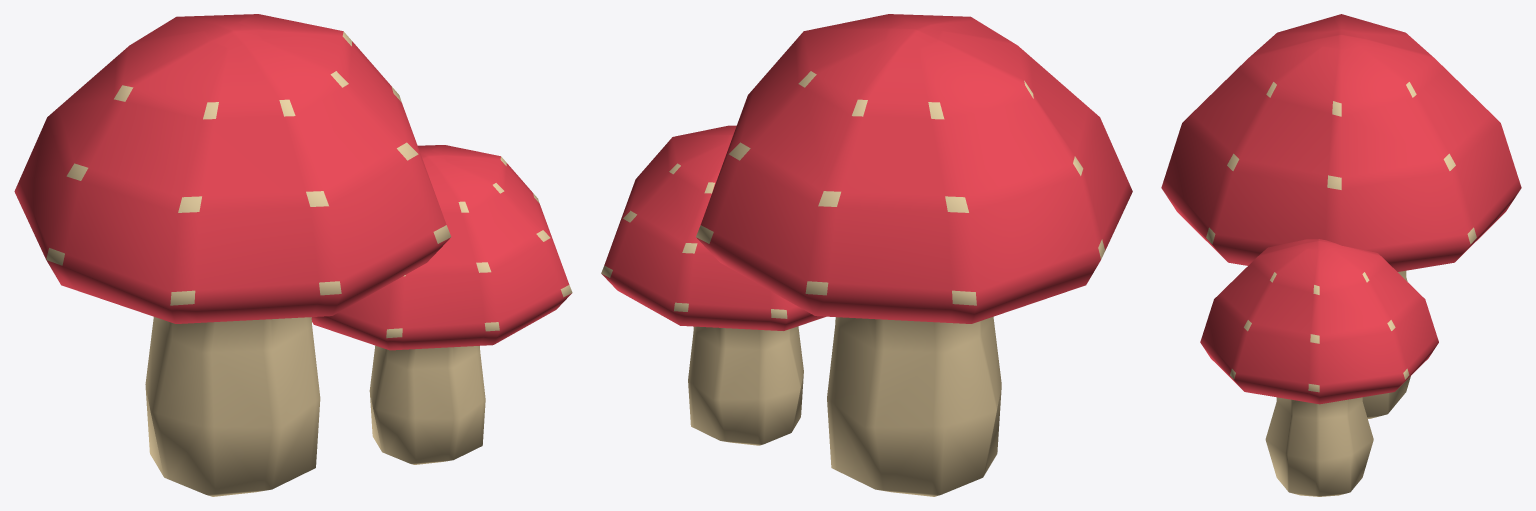
Rendered from VR.fbx_hongos_2.fbx.
3 renders of one model, left to right at view 1: azimuth 30°, elevation 25°; view 2: azimuth 150°, elevation 25°; view 3: azimuth 270°, elevation 25°, orthographic. The views are drawn at different scales.
Parts seen in each view (by area): view 1: hongo 2; view 2: hongo 2; view 3: hongo 2.
Part boxes in pixels (bbox=[...]): hongo 2: bbox=[14, 14, 572, 496]; hongo 2: bbox=[601, 14, 1132, 496]; hongo 2: bbox=[1161, 14, 1521, 496].
Bounding box in the file's own units: 17.94 × 15.86 × 13.74.
